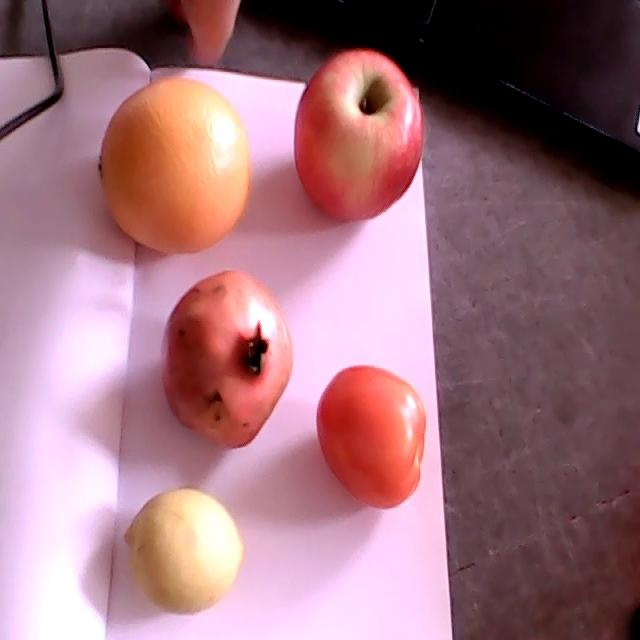apple: (295, 49, 422, 222)
lemon: (123, 486, 244, 614)
orange: (99, 77, 250, 254)
pomegranate: (161, 272, 295, 451)
tomato: (317, 365, 426, 509)
